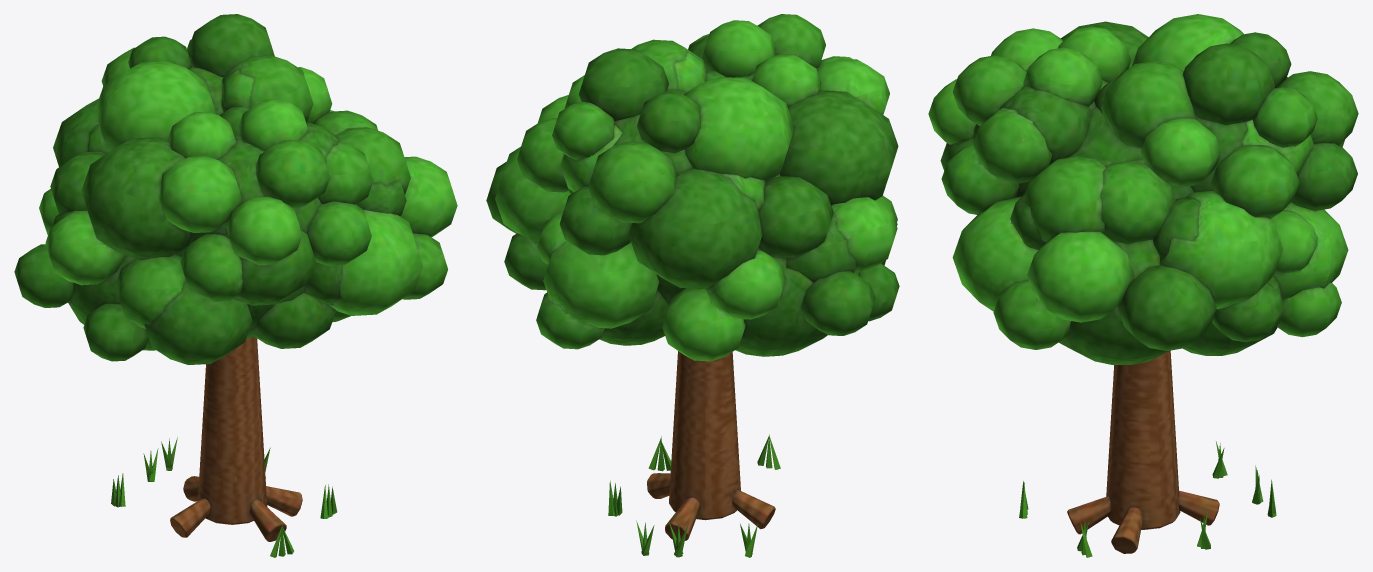
Rendered from nectarine_tree.glb.
3 renders of one model, left to right at view 1: azimuth 30°, elevation 25°; view 2: azimuth 150°, elevation 25°; view 3: azimuth 270°, elevation 25°, orthographic. The views are drawn at different scales.
Parts seen in each view (by area): view 1: crown, nectarine_tree; view 2: crown, nectarine_tree; view 3: crown, nectarine_tree.
Part boxes in pixels (left/top/right/bottom): crown: left=14, top=14, right=457, bottom=364; nectarine_tree: left=111, top=337, right=337, bottom=557; crown: left=486, top=14, right=899, bottom=361; nectarine_tree: left=608, top=351, right=780, bottom=557; crown: left=928, top=14, right=1358, bottom=364; nectarine_tree: left=1019, top=350, right=1276, bottom=557.
Bounding box in the file's own units: 1.13 × 1.31 × 1.03.
1 material, 1 textured.
